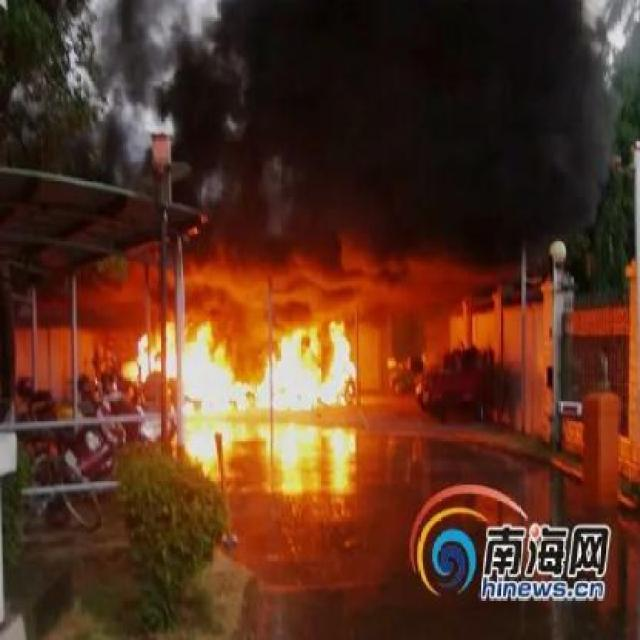Fire: (185, 325, 253, 410), (259, 323, 321, 408), (322, 318, 356, 406), (130, 334, 158, 380), (166, 321, 177, 381)
Smoke: (184, 1, 610, 306)
